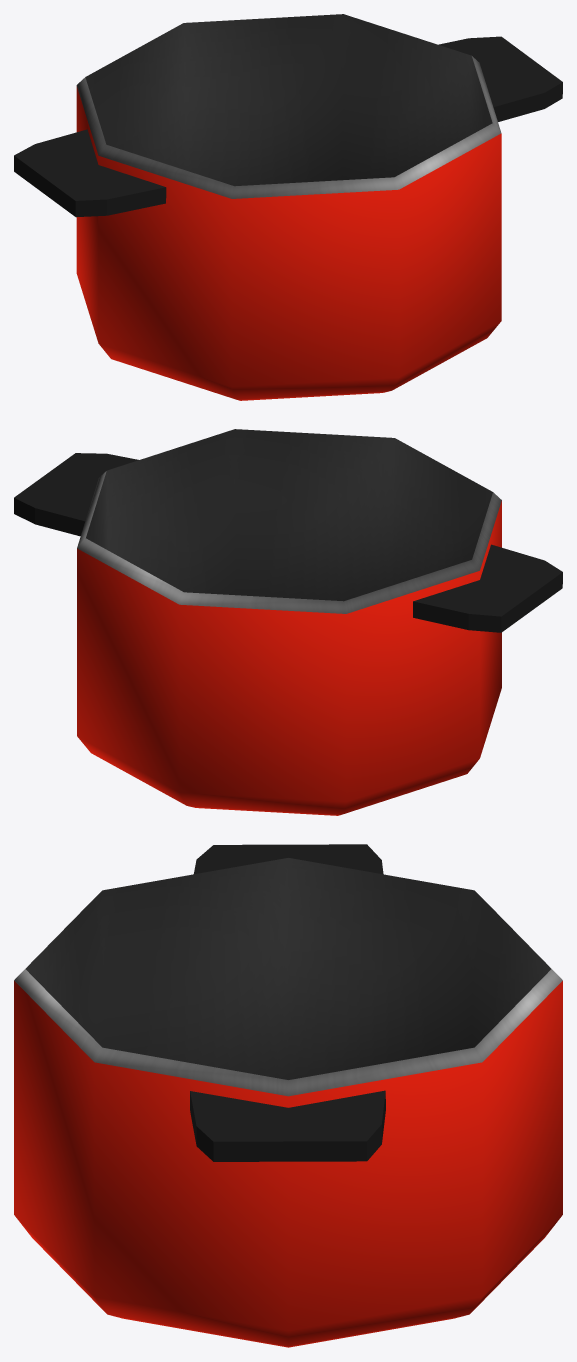
Rendered from Cooking_Pot_A.FBX.
The picture shows the model from 3 angles, top to bottom: view 1: azimuth 30°, elevation 25°; view 2: azimuth 150°, elevation 25°; view 3: azimuth 270°, elevation 25°; orthographic projection. The views are drawn at different scales.
Parts seen in each view (by area): view 1: Cooking_Pot; view 2: Cooking_Pot; view 3: Cooking_Pot.
Boxes of the visible parts, box(x1,y1,x2,y2) form: Cooking_Pot: box(14, 14, 562, 400); Cooking_Pot: box(14, 429, 562, 815); Cooking_Pot: box(14, 844, 562, 1347).
Bounding box in the file's own units: 102 × 45 × 80.
